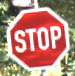stopsign: (7, 8, 69, 72)
